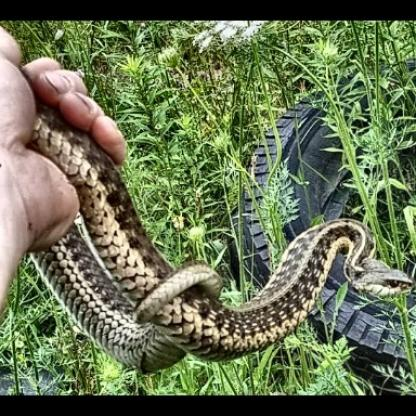Snake: (32, 119, 416, 362)
